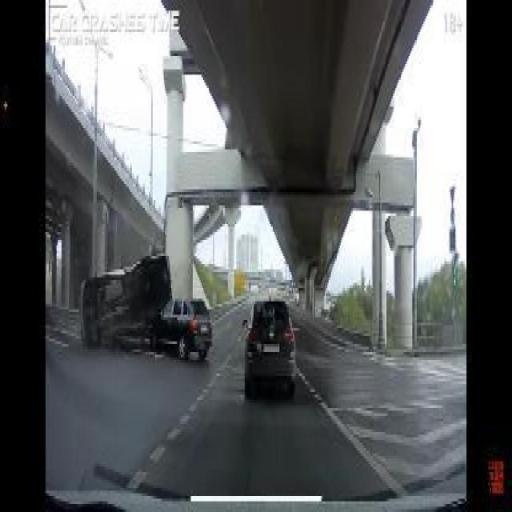小汽车: (239, 296, 298, 401)
小汽车撞小汽车: (72, 254, 212, 364)
